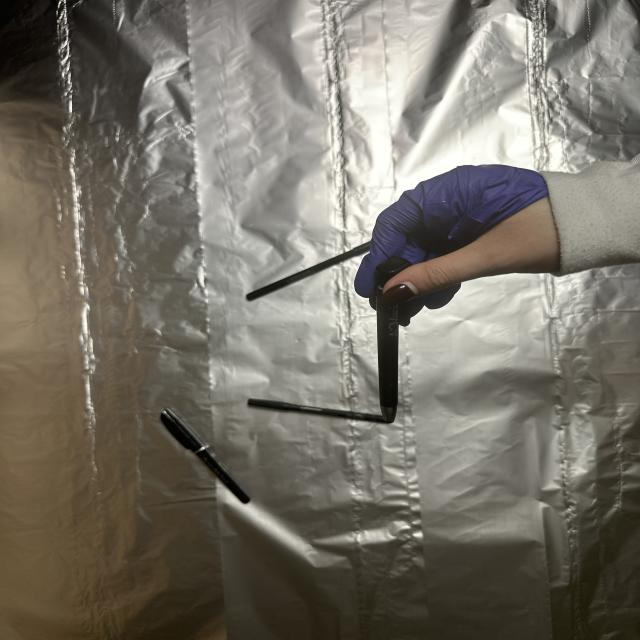glove_partial: (353, 159, 561, 327)
